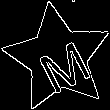M_NW: (26, 25, 90, 91)
